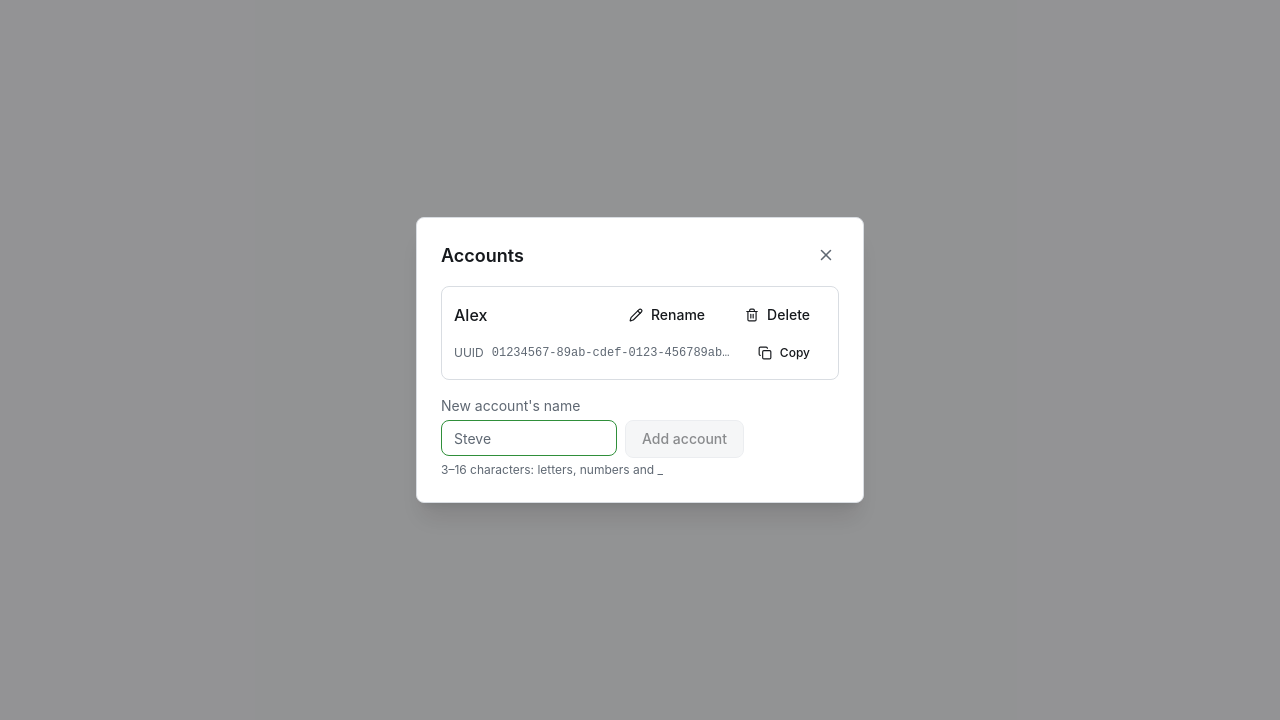
Scenario: AccountsDialog › copies the UUID
Click the button with aria-label "Copy UUID of Alex". click: [784, 353]
box: [742,339,826,367]
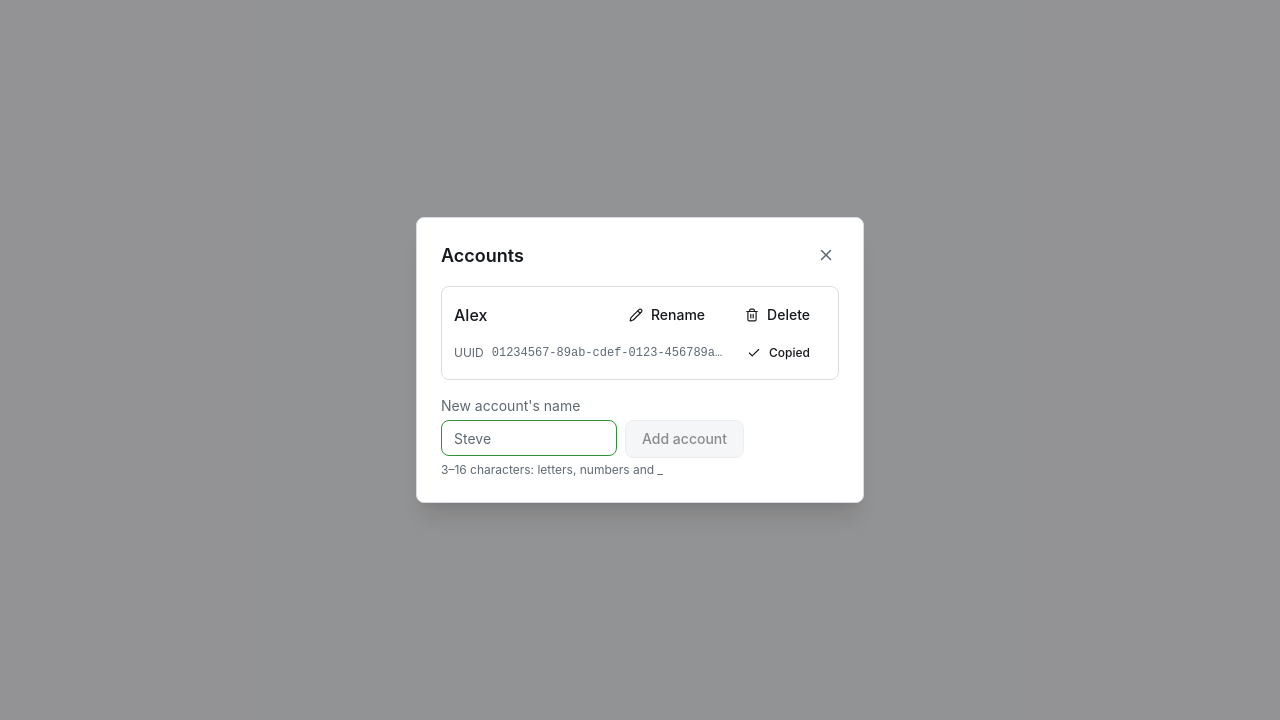
Now the button "Copied" is shown, box [731,339,826,367]
